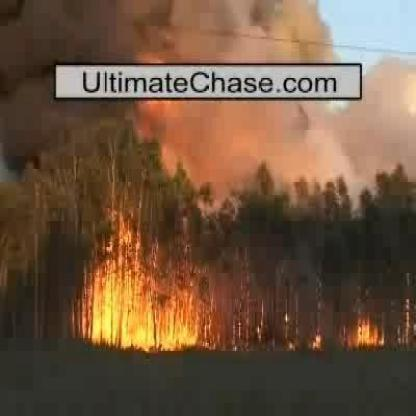-: (71, 4, 320, 59)
foggia-v2-map80-epoch100 - v1 4323: (93, 277, 146, 337)
